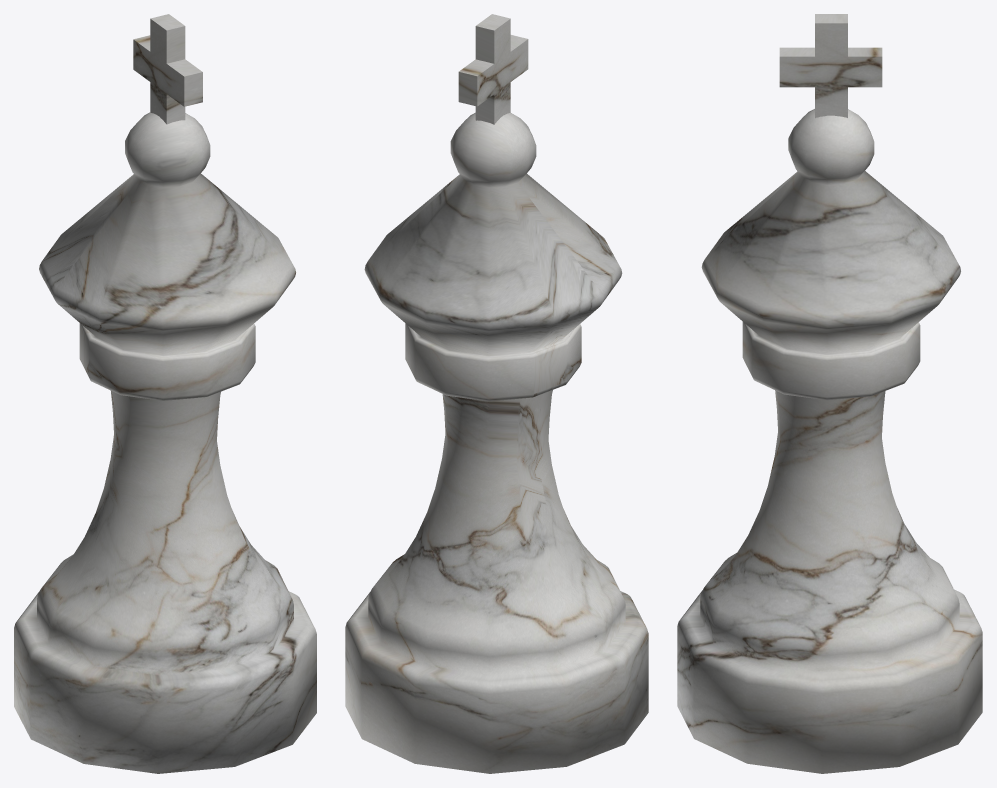
The model's file is ReyBlanco.glb.
3 views of the same model, side by side, from view 1: azimuth 30°, elevation 25°; view 2: azimuth 150°, elevation 25°; view 3: azimuth 270°, elevation 25° (orthographic).
Parts seen in each view (by area): view 1: Rey; view 2: Rey; view 3: Rey.
Part boxes in pixels (x1,y1,x2,y2): Rey: (14,14,316,773); Rey: (345,14,648,773); Rey: (677,14,982,773).
Bounding box in the file's own units: 0.7033 × 1.76 × 0.7033.
1 material, 1 textured.
